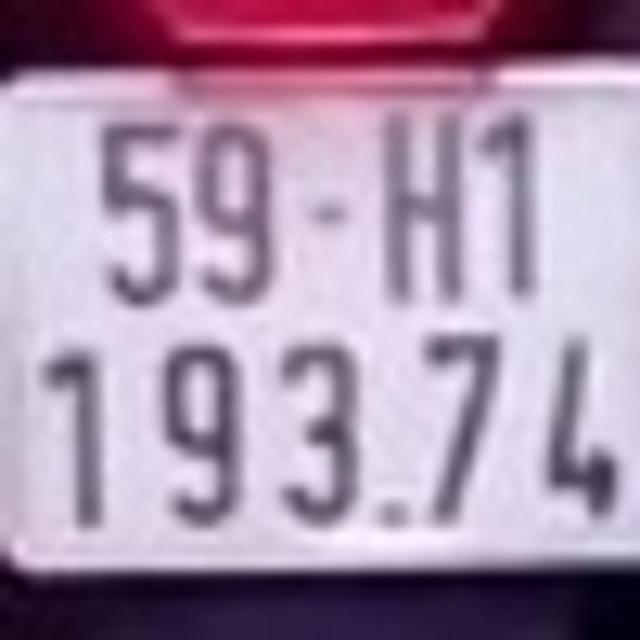1: (34, 332, 120, 538), (476, 103, 544, 304)
3: (280, 328, 359, 530)
4: (542, 321, 624, 534)
5: (96, 108, 187, 306)
7: (421, 322, 504, 529)
9: (160, 332, 238, 532), (193, 115, 274, 306)
H: (378, 95, 473, 308)
